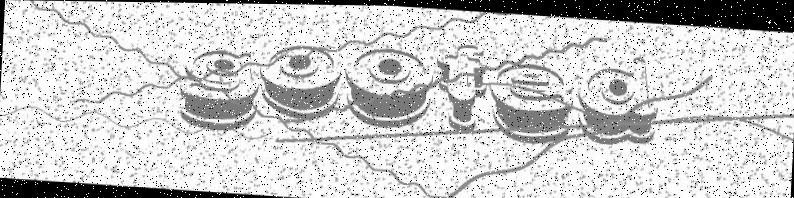d: (573, 44, 666, 147)
e: (486, 55, 575, 148)
f: (431, 32, 490, 134)
g: (166, 36, 268, 135)
o: (340, 39, 435, 127), (255, 43, 345, 124)
